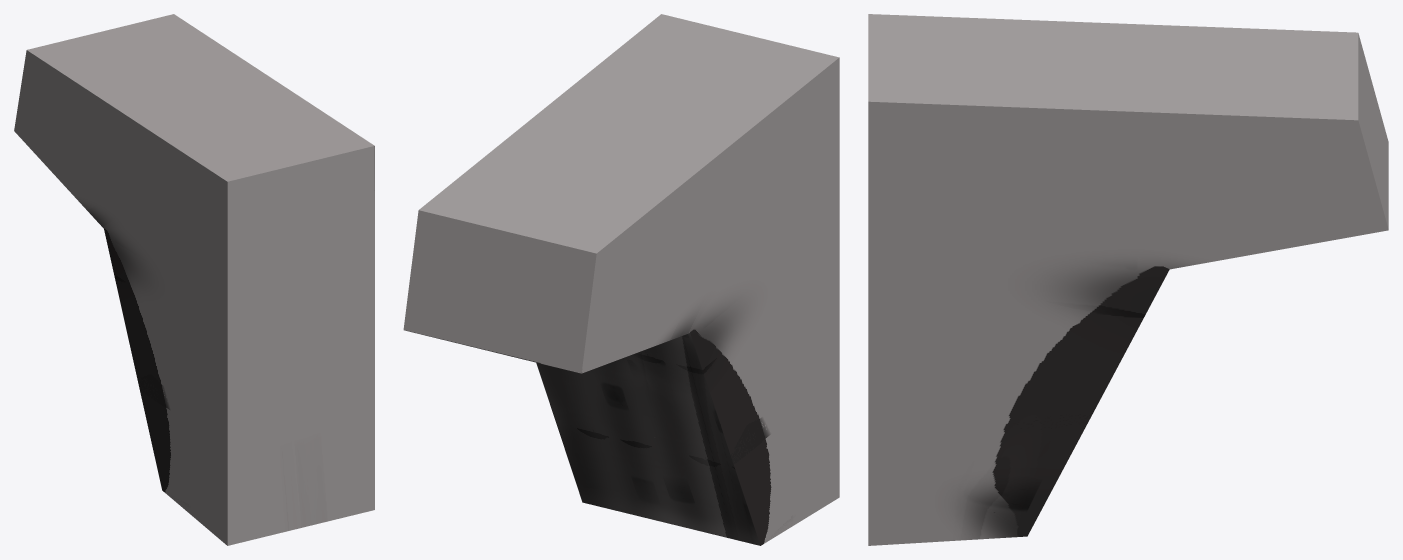
The model's file is pickup_weapon_generic.dae.
3 views of the same model, side by side, from view 1: azimuth 30°, elevation 25°; view 2: azimuth 150°, elevation 25°; view 3: azimuth 270°, elevation 25° (orthographic). The views are drawn at different scales.
Visible parts, largest first — view 1: Cube; view 2: Cube; view 3: Cube.
Boxes of the visible parts, box(x1,y1,x2,y2) form: Cube: box(14, 14, 374, 545); Cube: box(403, 14, 839, 545); Cube: box(868, 14, 1388, 545).
Bounding box in the file's own units: 0.847 × 2.12 × 2.
Materials: 1 (1 with a texture image).
